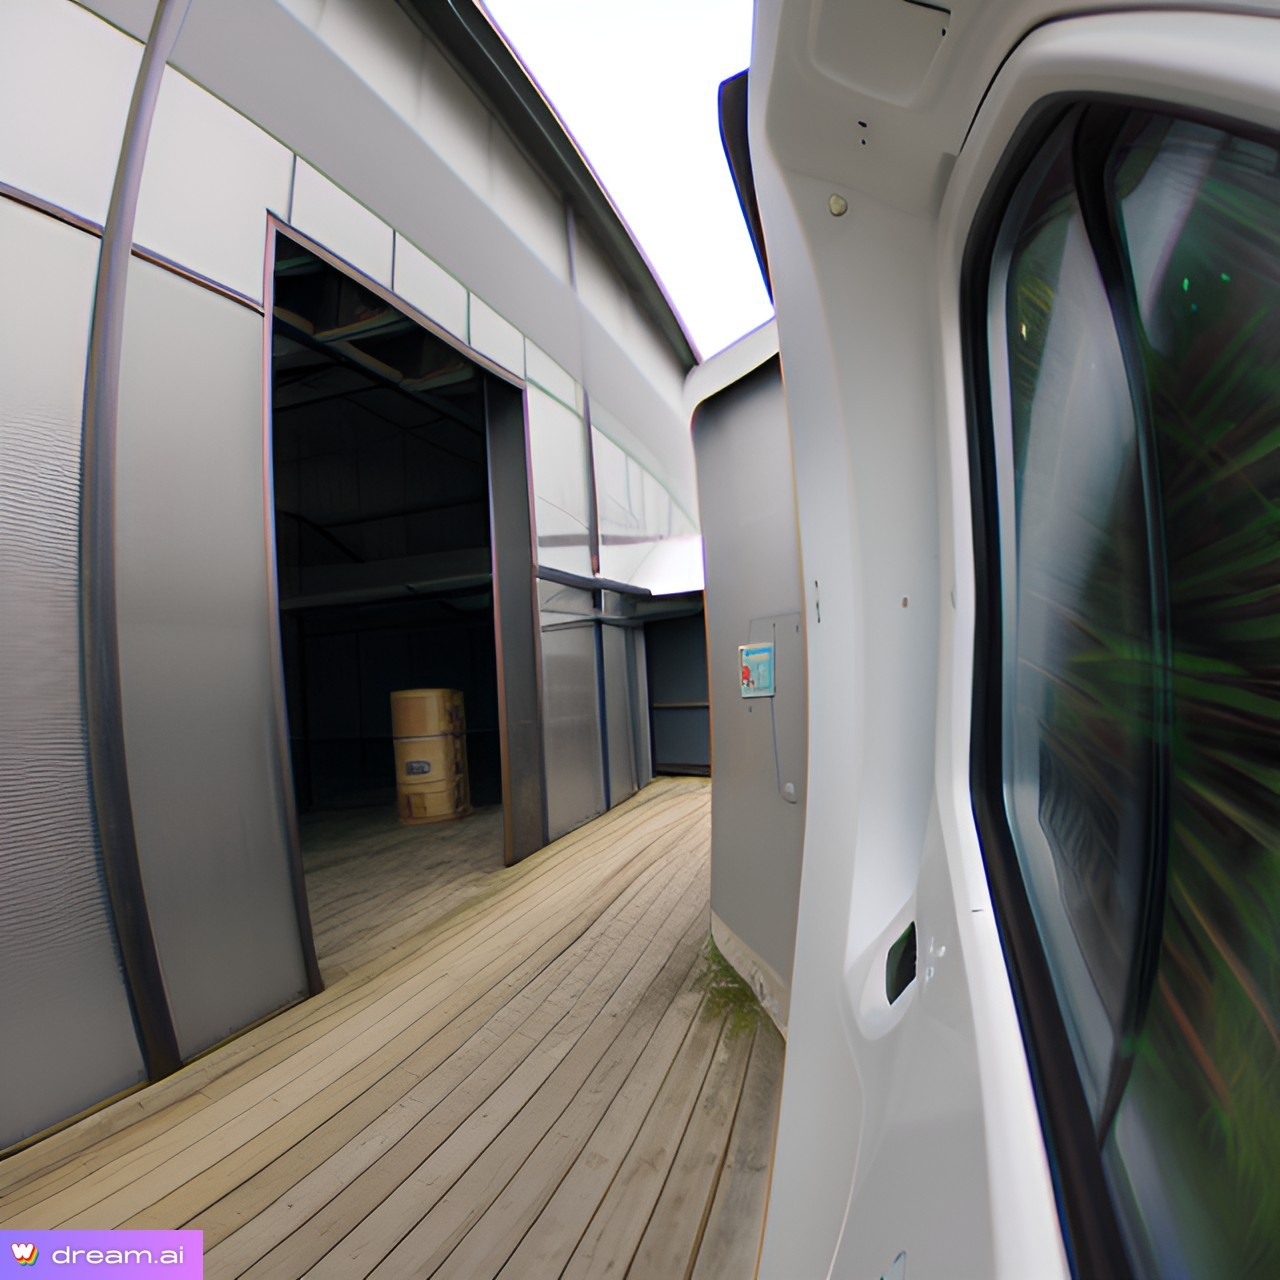door_front: (660, 302, 852, 1065)
